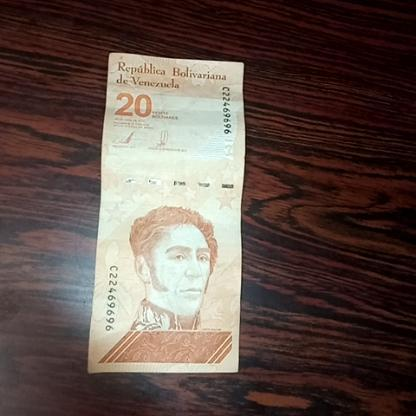twenty-front-vef: (86, 55, 244, 373)
